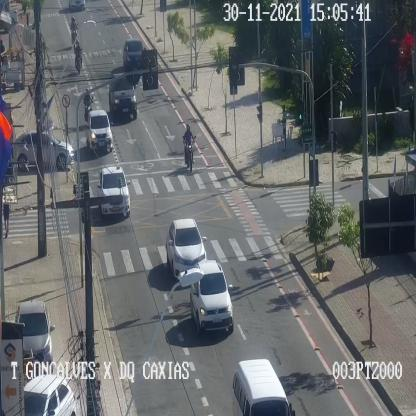car: (232, 358, 290, 416), (190, 260, 233, 332), (16, 301, 52, 372), (13, 130, 74, 169), (166, 218, 206, 277), (23, 374, 76, 416), (97, 166, 129, 215), (108, 73, 136, 118), (86, 109, 112, 151), (123, 38, 144, 68)
motorbike: (183, 123, 194, 172), (84, 87, 92, 122), (75, 39, 82, 74), (70, 15, 77, 43)
person: (280, 104, 287, 151), (2, 203, 11, 237)
